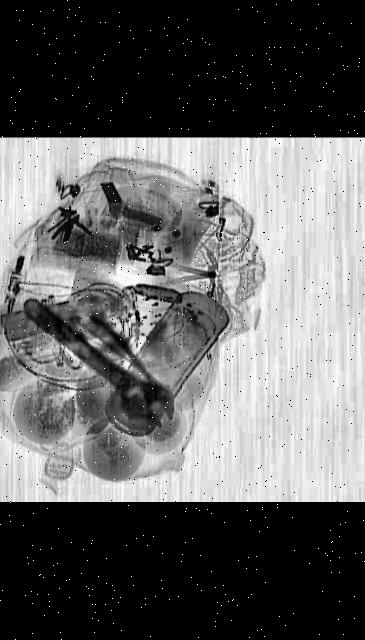Wrench: (1, 290, 198, 436)
